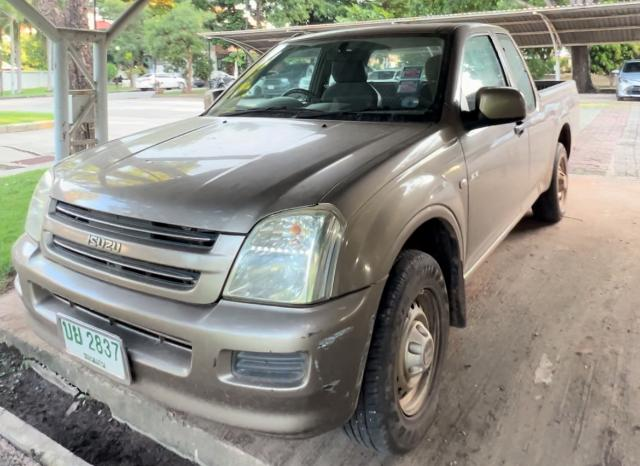pickup-truck: (10, 20, 583, 451)
